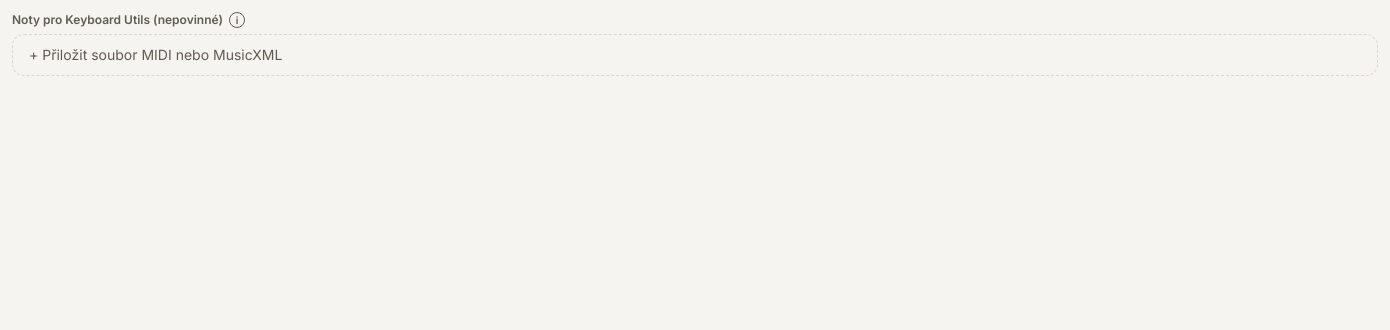
Test: AttachmentField › is optional and explains itself behind the "i"
Expected: the text "Noty pro Keyboard Utils (nepovinné) i" is shown, left=12, top=12, right=245, bottom=28
Click the button named "Co je soubor pro Keyboard Utils" at (237, 20), box left=229, top=12, right=245, bottom=28
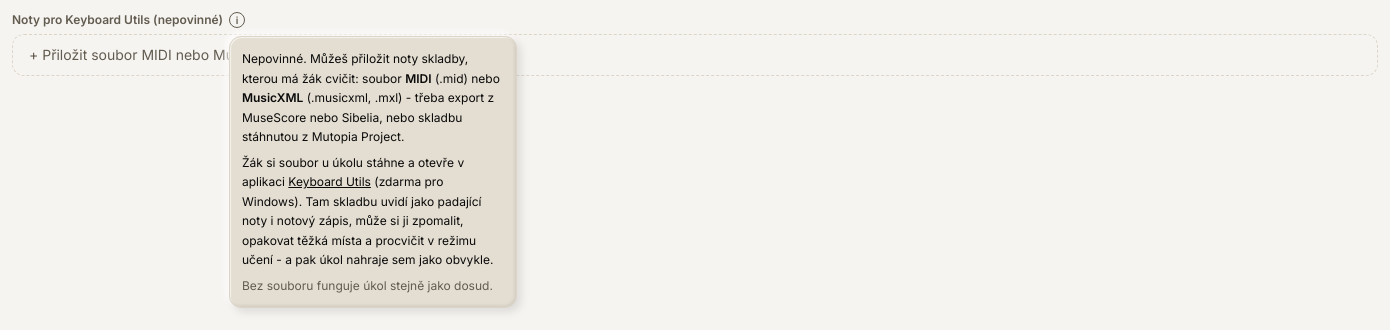
Result: the text "MusicXML" is shown at left=242, top=90, right=303, bottom=105
